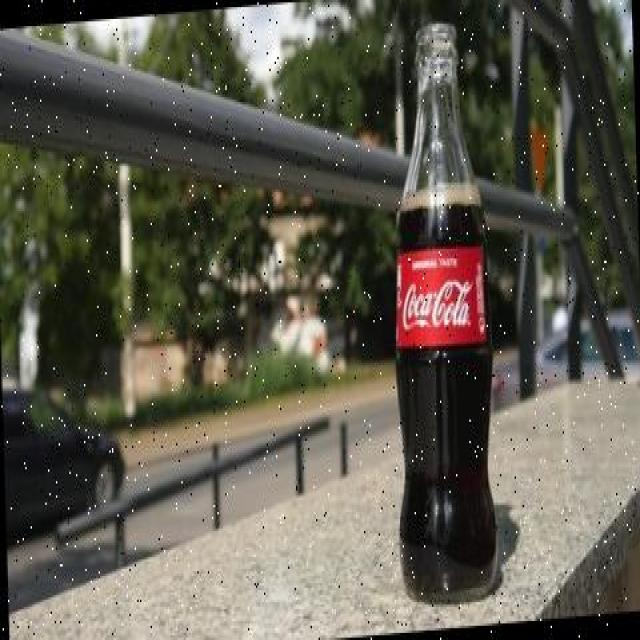coca-cola: (378, 12, 506, 614)
